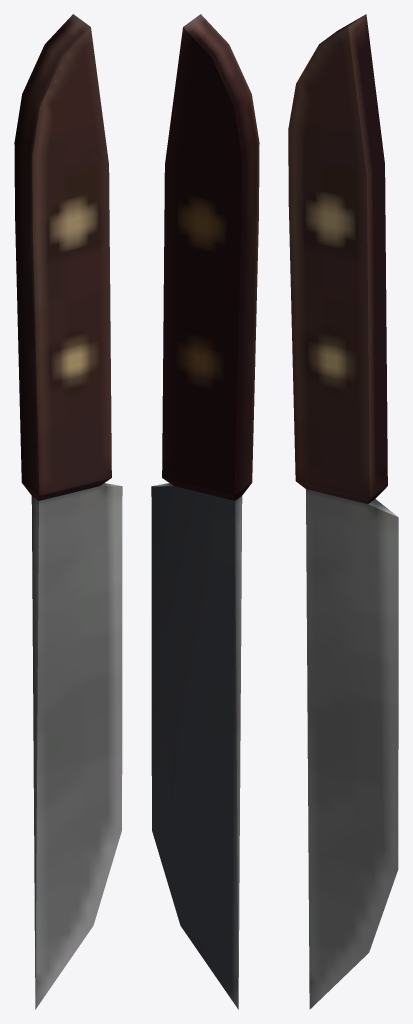
Rendered from cuchillo4.fbx.
3 renders of one model, left to right at view 1: azimuth 30°, elevation 25°; view 2: azimuth 150°, elevation 25°; view 3: azimuth 330°, elevation 25°, orthographic. The views are drawn at different scales.
Parts seen in each view (by area): view 1: s4studio_mesh_1; view 2: s4studio_mesh_1; view 3: s4studio_mesh_1.
Boxes of the visible parts, x1,y1,x2,y2 form: s4studio_mesh_1: (14,14,122,1009); s4studio_mesh_1: (151,14,259,1009); s4studio_mesh_1: (288,14,398,1009).
Bounding box in the file's own units: 3.67 × 34.57 × 1.14.
Materials: 1 (1 with a texture image).
